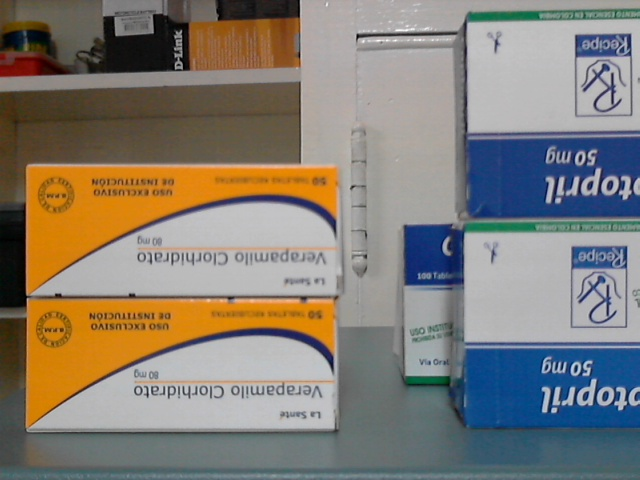LaSante: (28, 299, 336, 430), (27, 167, 336, 294)
